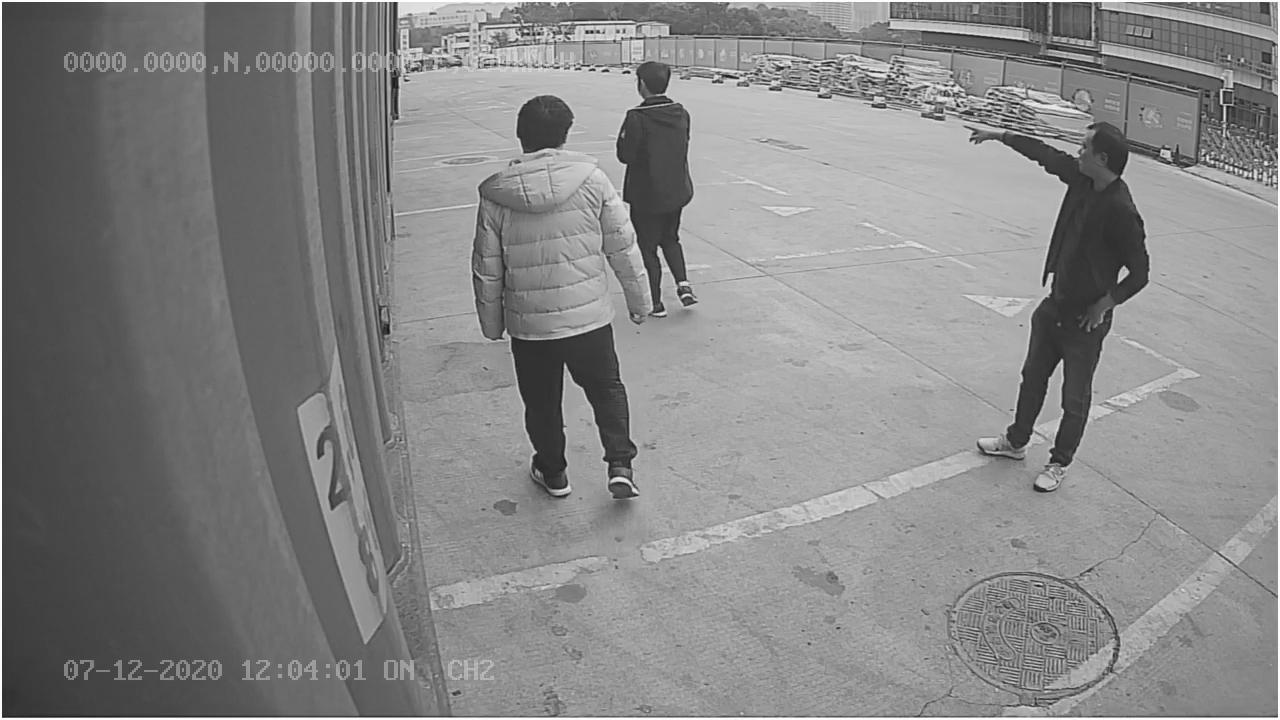person: (958, 119, 1149, 495)
